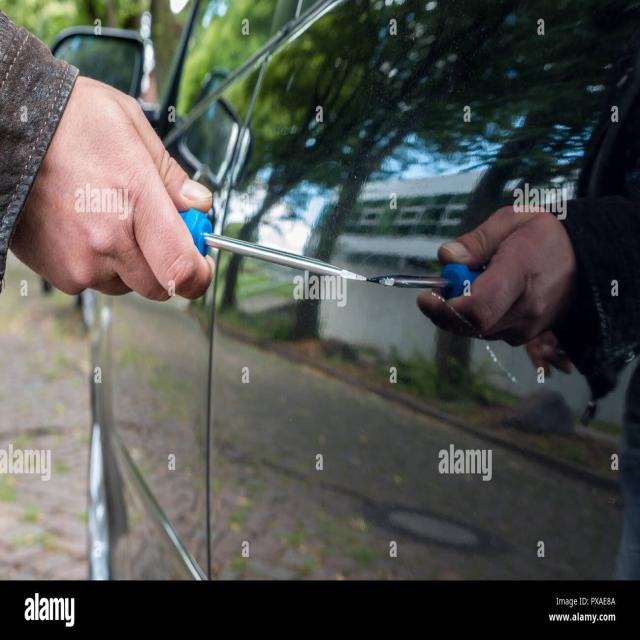scratch: (429, 291, 517, 384)
